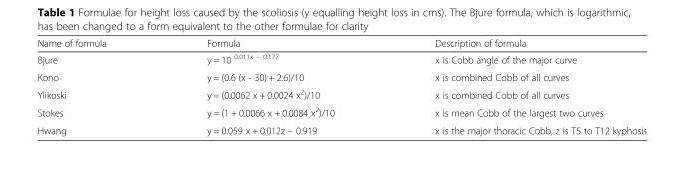table: (36, 37, 646, 135)
table column: (384, 37, 646, 135), (155, 37, 384, 135), (36, 37, 155, 135)
table column header: (36, 37, 646, 50)
table row: (36, 102, 646, 121), (36, 50, 646, 68), (36, 68, 646, 85), (36, 85, 646, 102), (36, 121, 646, 135), (36, 37, 646, 50)
